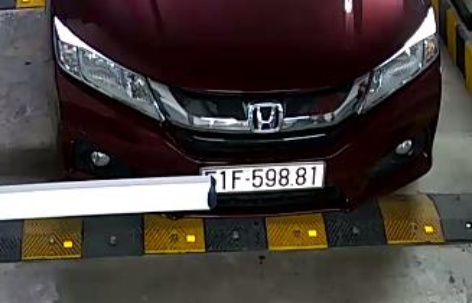plate: (199, 159, 334, 198)
